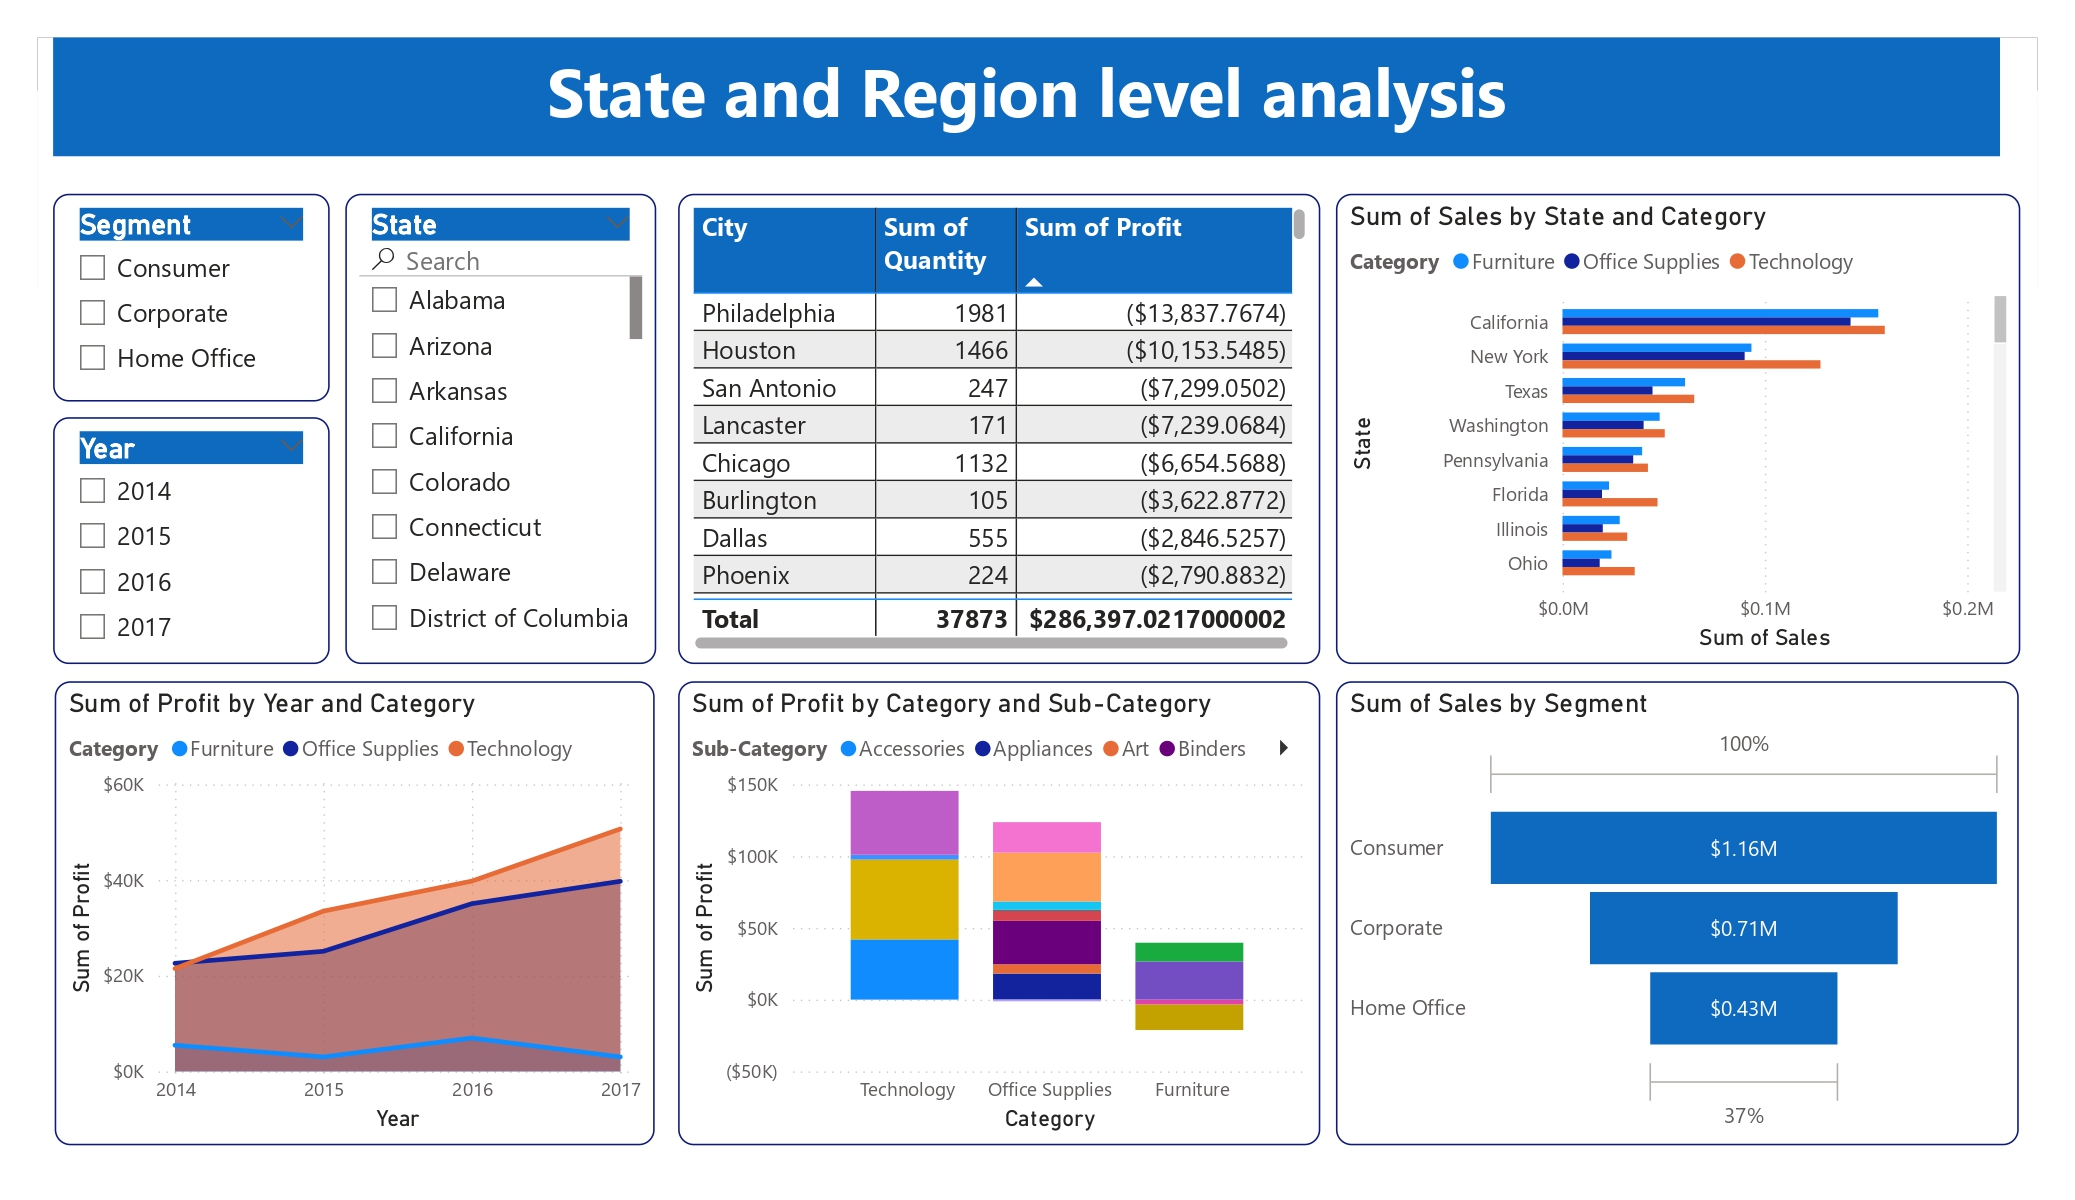

What the dashboard file says about the page in this screenshot:
{"tool":"powerbi","page":{"name":"Region and State","canvas":[1280,720],"ordinal":1},"visuals":[{"type":"textbox","box":[10,0,1245.7,75.7],"z":0},{"type":"slicer","fields":{"Values":["Orders.State"]},"box":[197.1,100,198.6,301.4],"z":1000},{"type":"slicer","fields":{"Values":["Orders.Year"]},"box":[10,242.9,177.1,158.6],"z":1001},{"type":"slicer","fields":{"Values":["Orders.Segment"]},"box":[10,100,177.1,132.9],"z":1002},{"type":"tableEx","fields":{"Values":["Orders.City","Sum(Orders.Quantity)","Sum(Orders.Profit)"]},"box":[410,100,411.4,301.4],"z":1003},{"type":"clusteredBarChart","fields":{"Category":["Orders.State"],"Y":["Sum(Orders.Sales)"],"Series":["Orders.Category"]},"box":[831.4,100,437.1,301.4],"z":1004},{"type":"areaChart","fields":{"Category":["Orders.Year"],"Y":["Sum(Orders.Profit)"],"Series":["Orders.Category"]},"box":[10.6,412.1,384.8,297],"z":1005},{"type":"lineStackedColumnComboChart","fields":{"Category":["Orders.Category"],"Y":["Sum(Orders.Profit)"],"Series":["Orders.Sub-Category"]},"box":[410,412,411,297],"z":1006},{"type":"funnel","fields":{"Category":["Orders.Segment"],"Y":["Sum(Orders.Sales)"]},"box":[831,412,437,297],"z":1007}]}

Visuals, with their boxes in screenshot pixels (x1, y1, x2, y2):
textbox: (left=53, top=38, right=2000, bottom=156)
slicer - Orders.State: (left=345, top=194, right=656, bottom=665)
slicer - Orders.Year: (left=53, top=417, right=330, bottom=665)
slicer - Orders.Segment: (left=53, top=194, right=330, bottom=401)
tableEx - Orders.City x Sum(Orders.Quantity): (left=678, top=194, right=1321, bottom=665)
clusteredBarChart - Orders.State x Sum(Orders.Sales): (left=1337, top=194, right=2020, bottom=665)
areaChart - Orders.Year x Sum(Orders.Profit): (left=54, top=681, right=655, bottom=1145)
lineStackedColumnComboChart - Orders.Category x Sum(Orders.Profit): (left=678, top=681, right=1320, bottom=1145)
funnel - Orders.Segment x Sum(Orders.Sales): (left=1336, top=681, right=2019, bottom=1145)
